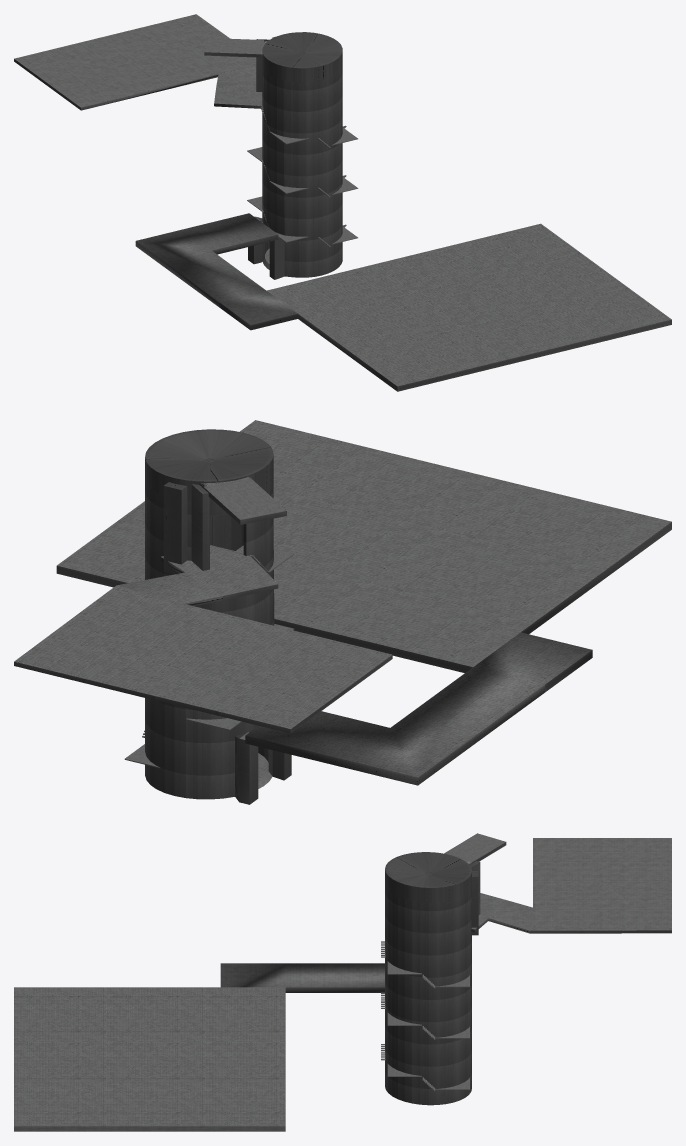
Rendered from SpiralStaircase3.fbx.
3 views of the same model, one above another, from view 1: azimuth 30°, elevation 25°; view 2: azimuth 150°, elevation 25°; view 3: azimuth 270°, elevation 25° (orthographic). The views are drawn at different scales.
Parts seen in each view (by area): view 1: Cube__229__1_001, Cube__215__2; view 2: Cube__229__1_001, Cube__215__2, Cube, Cube__218__2; view 3: Cube__229__1_001, Cube__215__2, Cube.
Part boxes in pixels (x1,y1,x2,y2): Cube__229__1_001: (135, 32, 671, 391); Cube__215__2: (14, 14, 262, 110); Cube__229__1_001: (56, 420, 671, 804); Cube__215__2: (14, 546, 392, 733); Cube: (163, 459, 223, 574); Cube__218__2: (191, 484, 209, 570); Cube__229__1_001: (14, 833, 506, 1131); Cube__215__2: (471, 838, 671, 933); Cube: (425, 871, 478, 935).
Bounding box in the file's own units: 5764 × 3400 × 9302.
